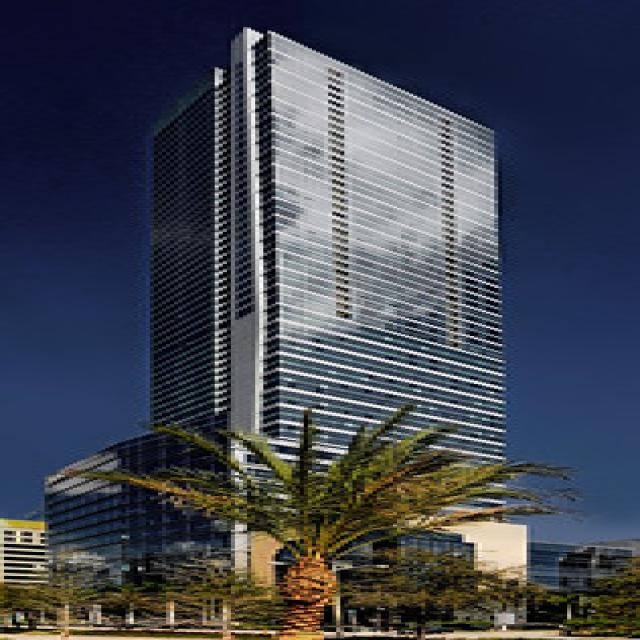building: (125, 23, 522, 636)
